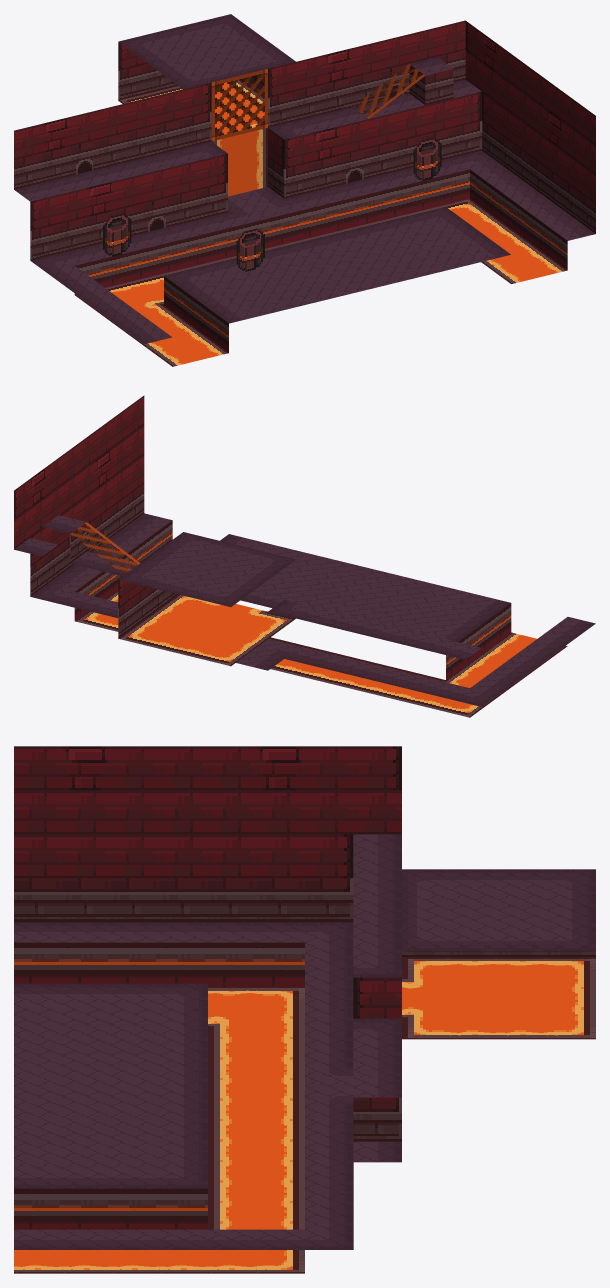
Rendered from dungeon.glb.
The picture shows the model from 3 angles, top to bottom: view 1: azimuth 30°, elevation 25°; view 2: azimuth 150°, elevation 25°; view 3: azimuth 270°, elevation 25°; orthographic projection. The views are drawn at different scales.
Parts seen in each view (by area): view 1: Object; view 2: Object; view 3: Object.
Boxes of the visible parts, <box> form: Object: <box>14,14,595,366</box>; Object: <box>14,395,595,717</box>; Object: <box>14,746,595,1273</box>.
Size of the model in its own units: 16 by 5 by 12.
1 material, 1 textured.
